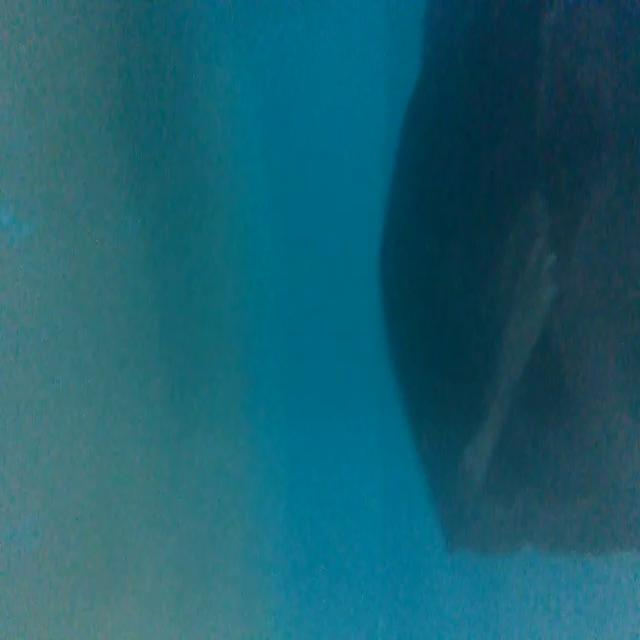plastic bags: (384, 3, 640, 558)
